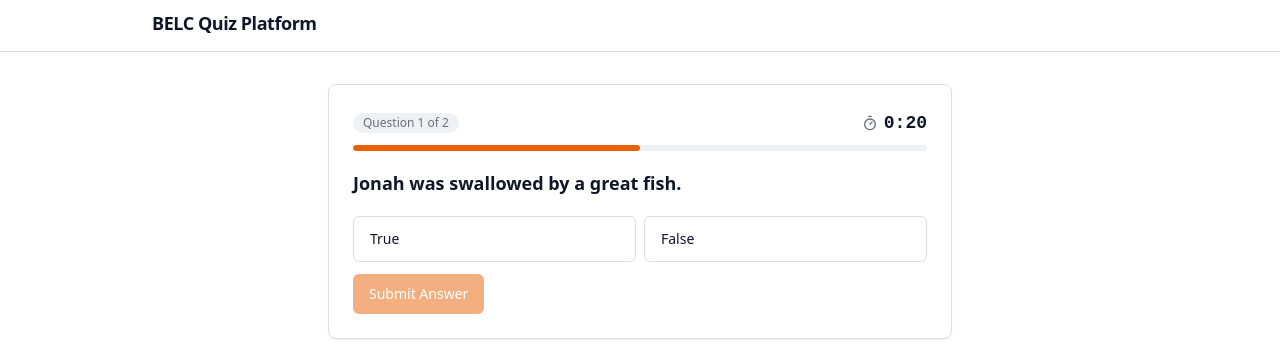
PlaySessionPage › submits an answer, shows confirmation, and cannot submit again
This screenshot has width=1280, height=357.
Click the button "True": [385, 238] box [353,216,636,262]
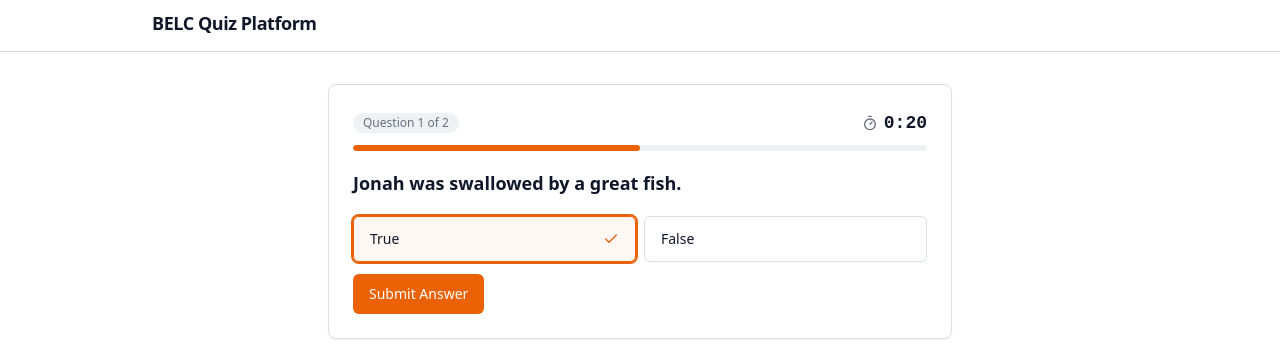
Click the button "Submit Answer": [419, 294] box [353,274,484,314]
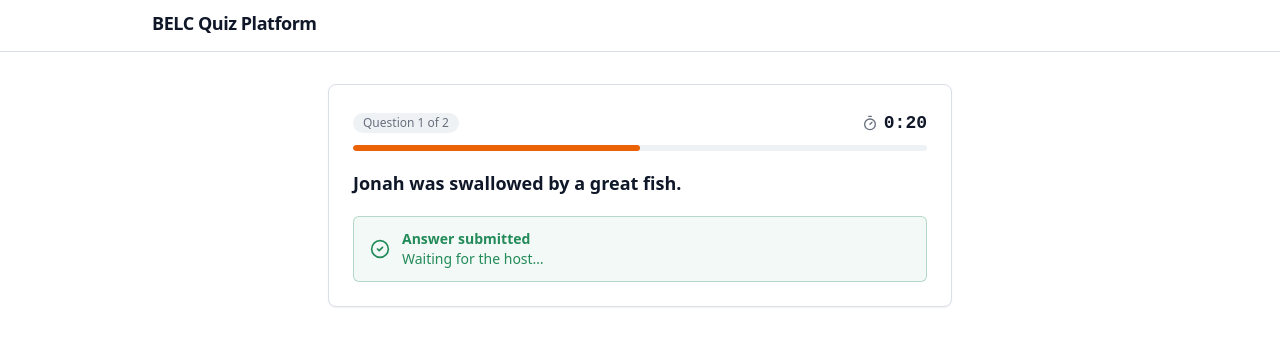
Result: the text "Answer submitted" is shown at [402,229,544,249]
Result: the button "Submit Answer" is gone
